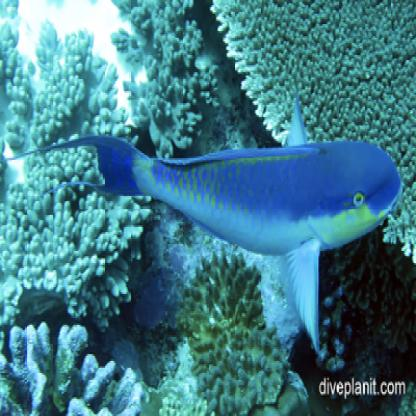Scaridae -Parrotfishes-: (8, 99, 402, 350)
